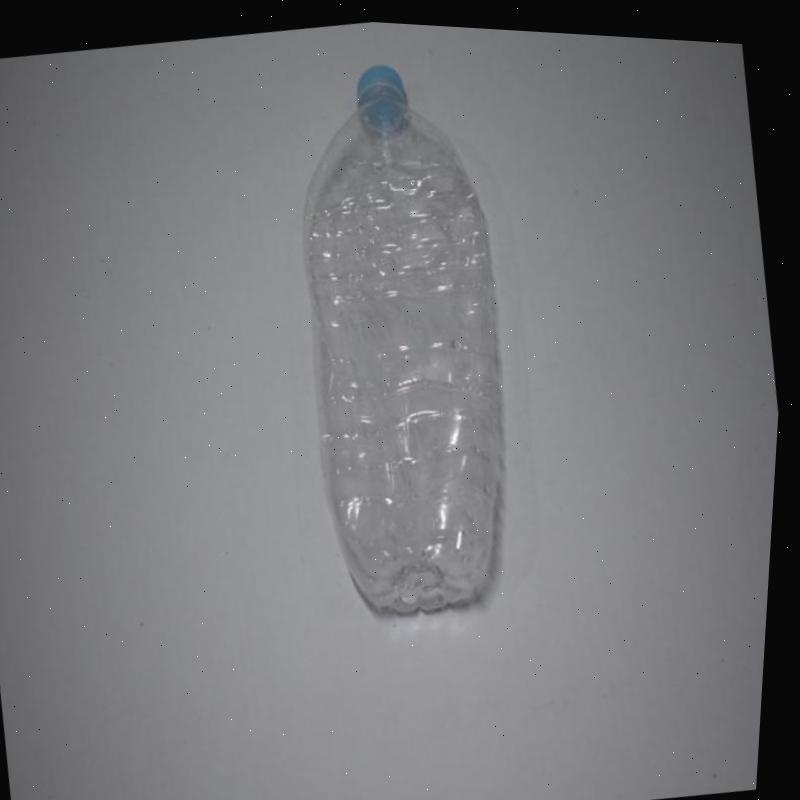botella: (258, 41, 556, 624)
